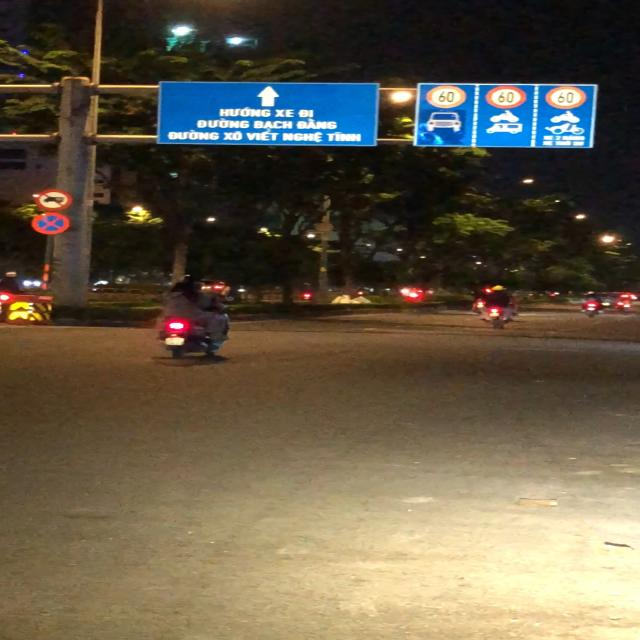Bien bao cam dung xe va do xe: (482, 84, 530, 109), (542, 85, 586, 111), (424, 85, 468, 108), (31, 212, 72, 235)
Bien bao cam xe oto tai: (33, 188, 75, 211)
